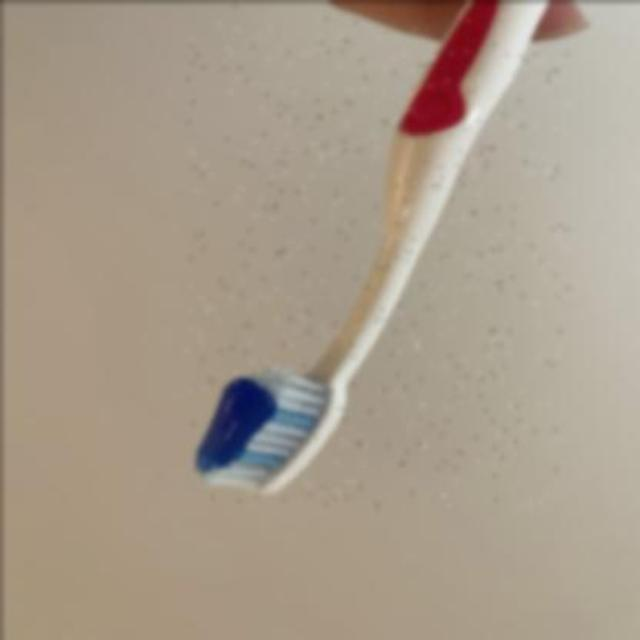toothbrush: (185, 0, 569, 508)
